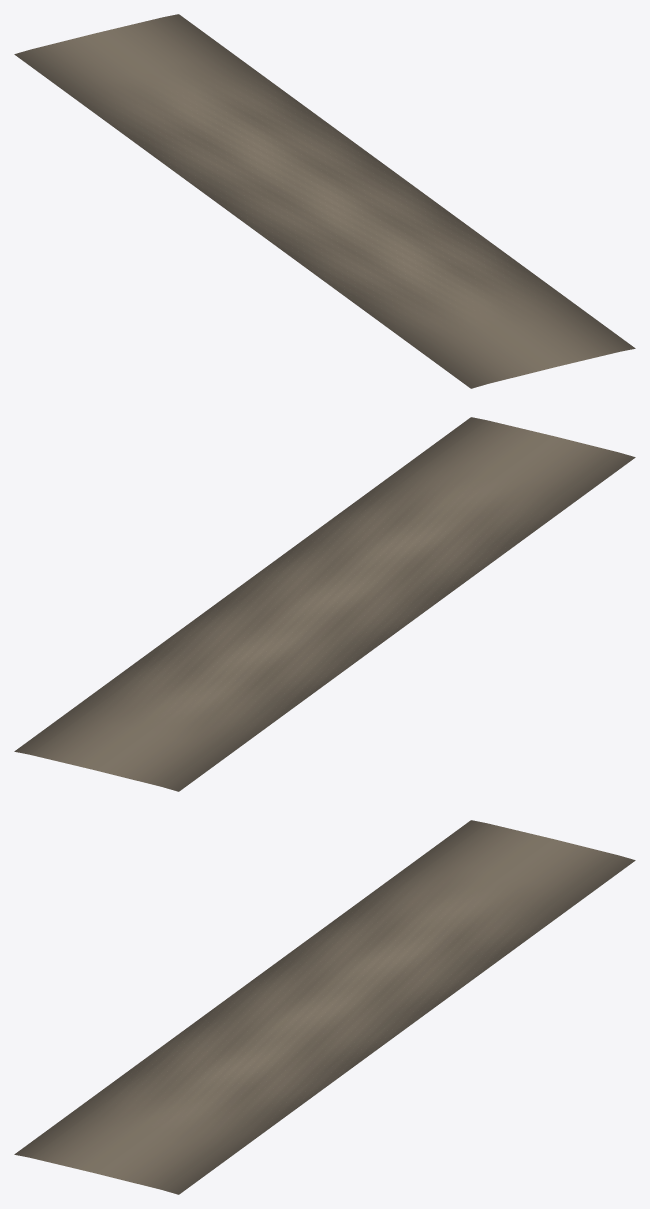
File: hex_path_straight.glb
3 views of the same model, one above another, from view 1: azimuth 30°, elevation 25°; view 2: azimuth 150°, elevation 25°; view 3: azimuth 330°, elevation 25° (orthographic).
Visible parts, largest first — view 1: Independent painted path ribbon; view 2: Independent painted path ribbon; view 3: Independent painted path ribbon.
Boxes of the visible parts, x1,y1,x2,y2 form: Independent painted path ribbon: [14, 14, 635, 388]; Independent painted path ribbon: [14, 417, 635, 791]; Independent painted path ribbon: [14, 820, 635, 1194].
Bounding box in the file's own units: 0.92 × 0.006 × 4.42.
1 material, 1 textured.
